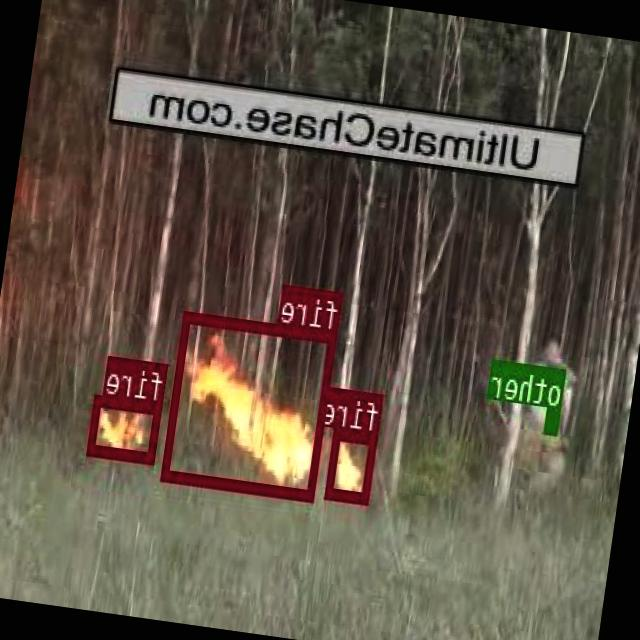fire: (162, 310, 338, 500), (89, 394, 163, 463), (326, 427, 379, 502)
